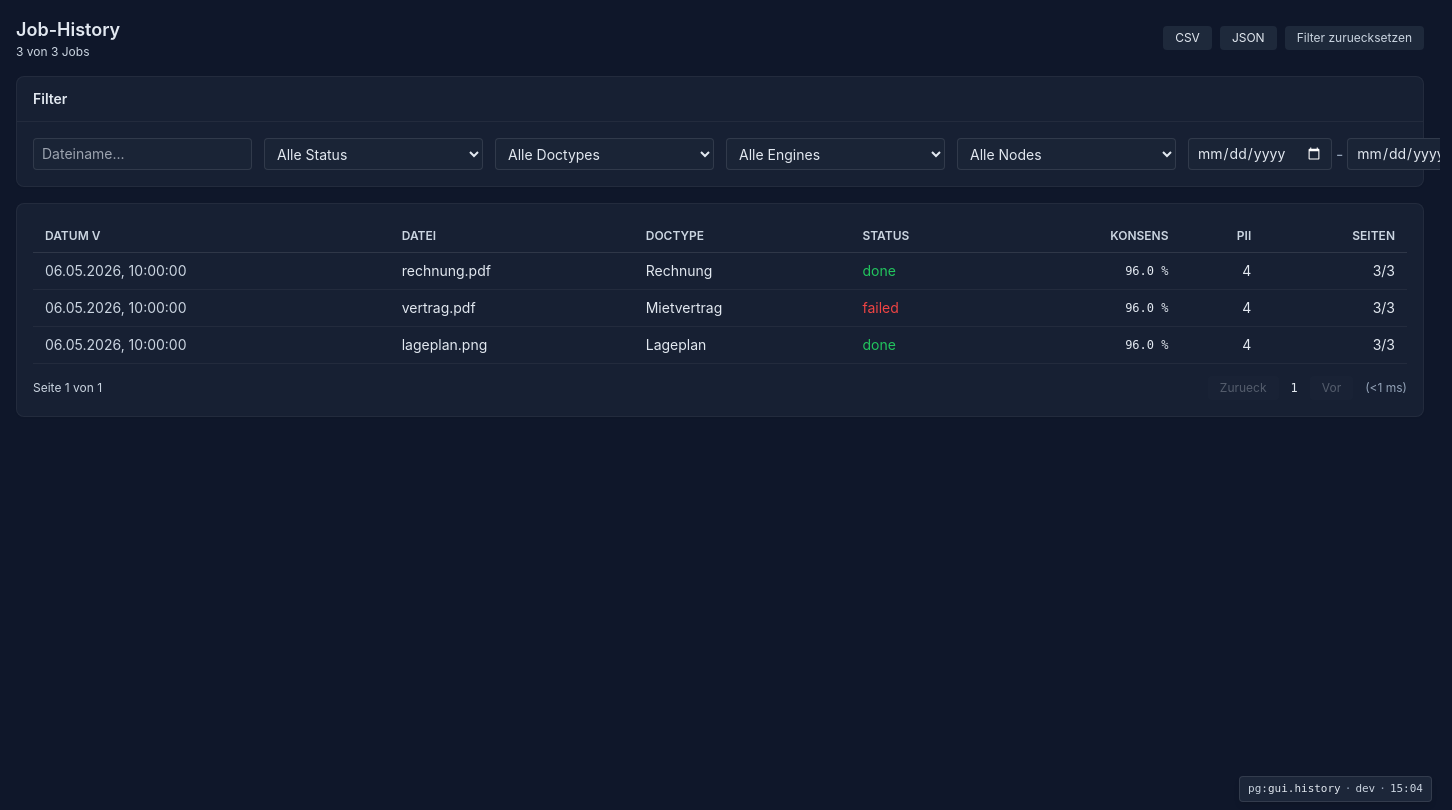
HistoryTab › filtert nach Status (failed)
The image size is (1452, 810).
Check: the table with test id "history-table" is shown, box [33, 220, 1407, 364]
Select "Failed" in the dropdown with test id "history-filter-status" at point(374, 154), box [264, 138, 483, 170]
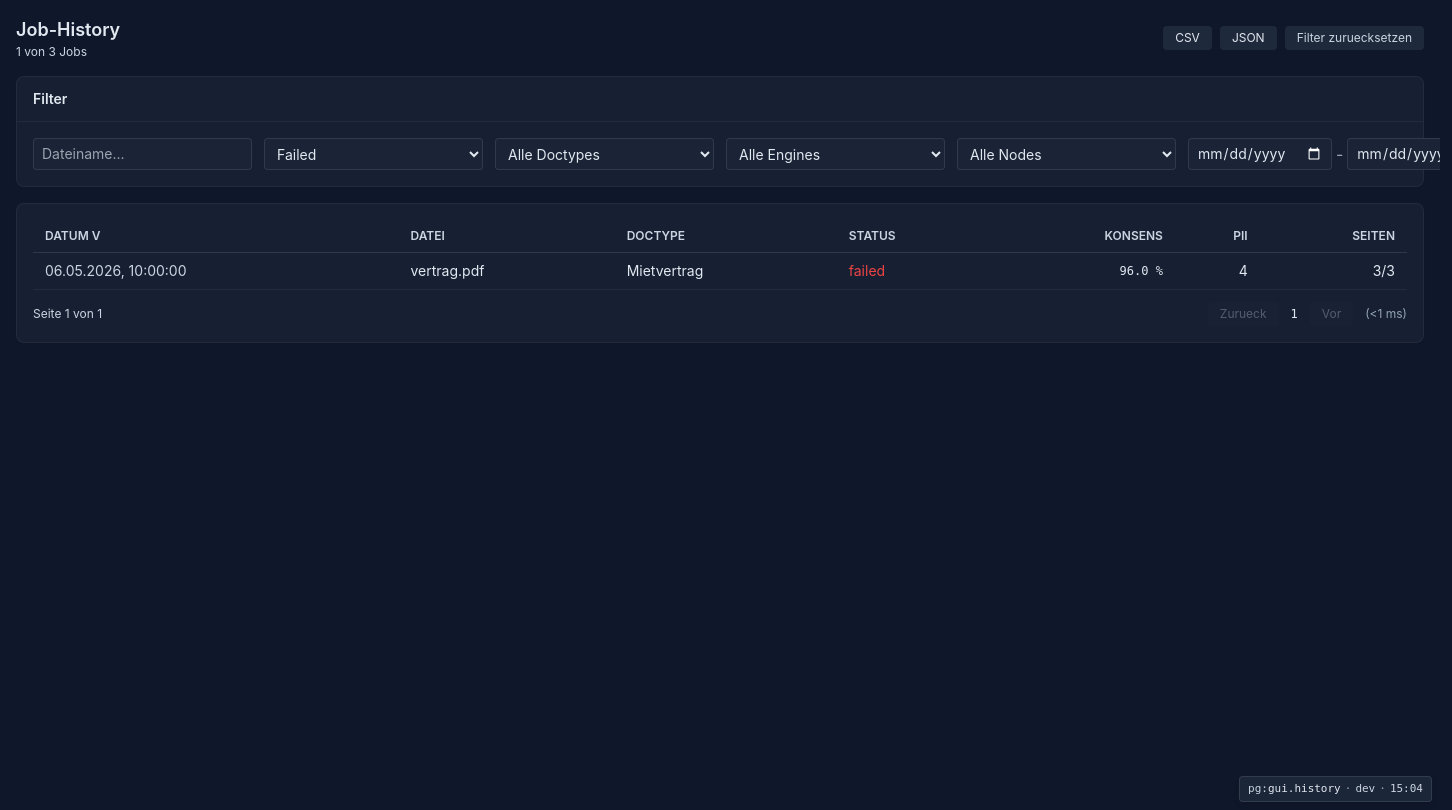
Check: the row with test id "history-row-ocr-2" is shown, box [33, 252, 1407, 290]
Check: the row with test id "history-row-ocr-1" is gone
